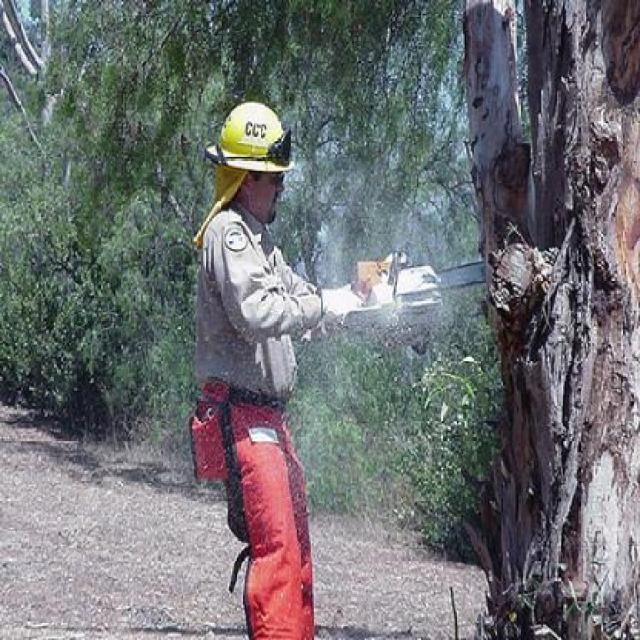Chainsaw: (343, 247, 486, 316)
